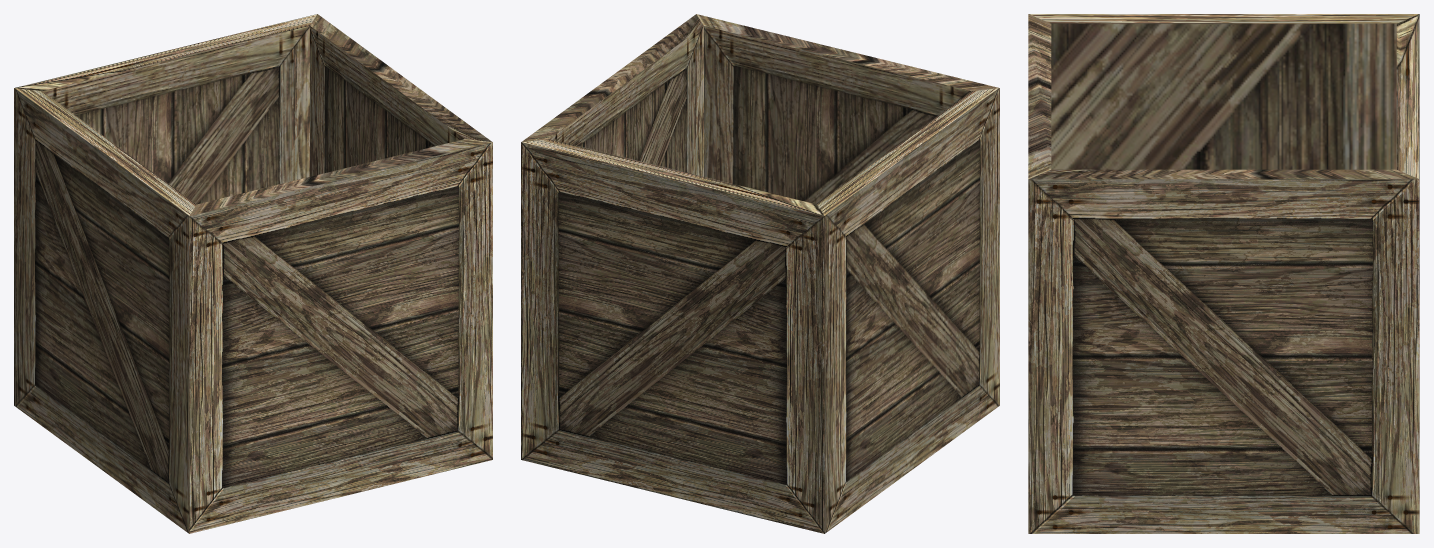
The model's file is storageboxblend.fbx.
3 views of the same model, side by side, from view 1: azimuth 30°, elevation 25°; view 2: azimuth 150°, elevation 25°; view 3: azimuth 270°, elevation 25° (orthographic). The views are drawn at different scales.
Parts seen in each view (by area): view 1: Cube; view 2: Cube; view 3: Cube.
Part boxes in pixels (x1,y1,x2,y2): Cube: (14, 14, 492, 533); Cube: (521, 14, 999, 533); Cube: (1028, 14, 1419, 533).
Size of the model in its own units: 200 by 200 by 200.
